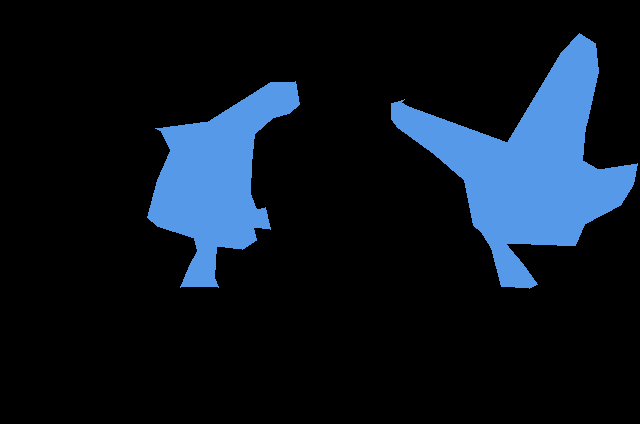Airplane: (147, 33, 637, 288)
